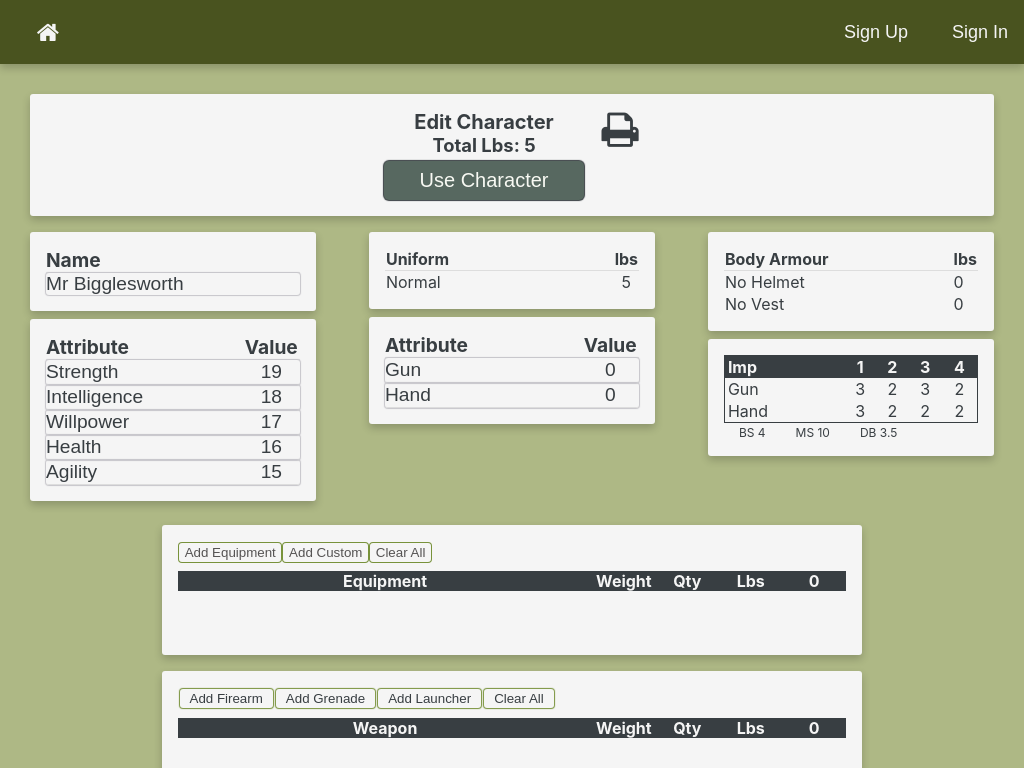
Test: Create Character › should change uniform type from Normal to Winter
The width and height of the screenshot is (1024, 768).
Click the text "Normal" at (413, 282), box x1=385 y1=271 x2=614 y2=294
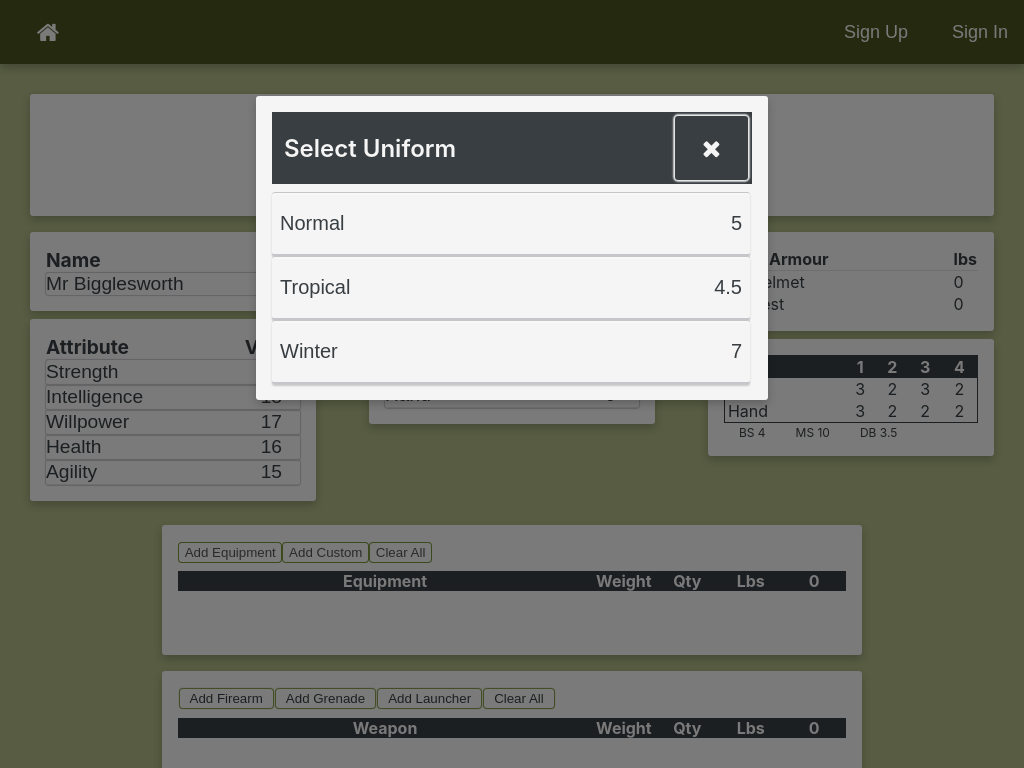
Click the button "Winter 7" at (309, 351), box x1=272 y1=320 x2=750 y2=384
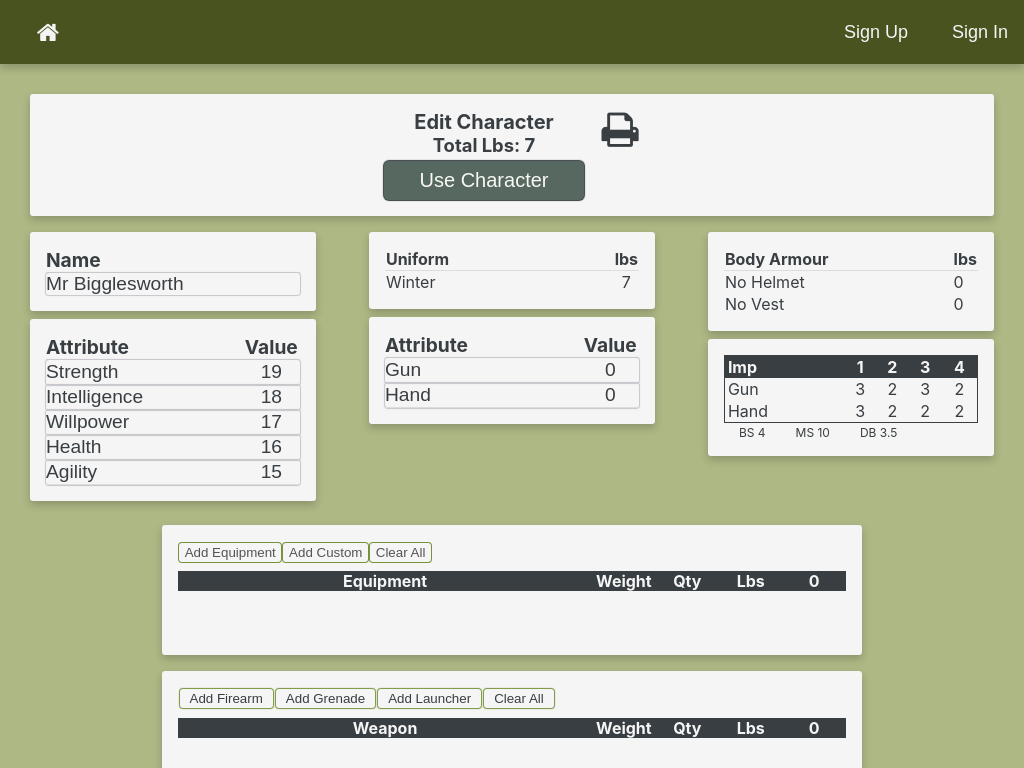
Result: the text "Winter" is shown at x1=385 y1=270 x2=614 y2=293
